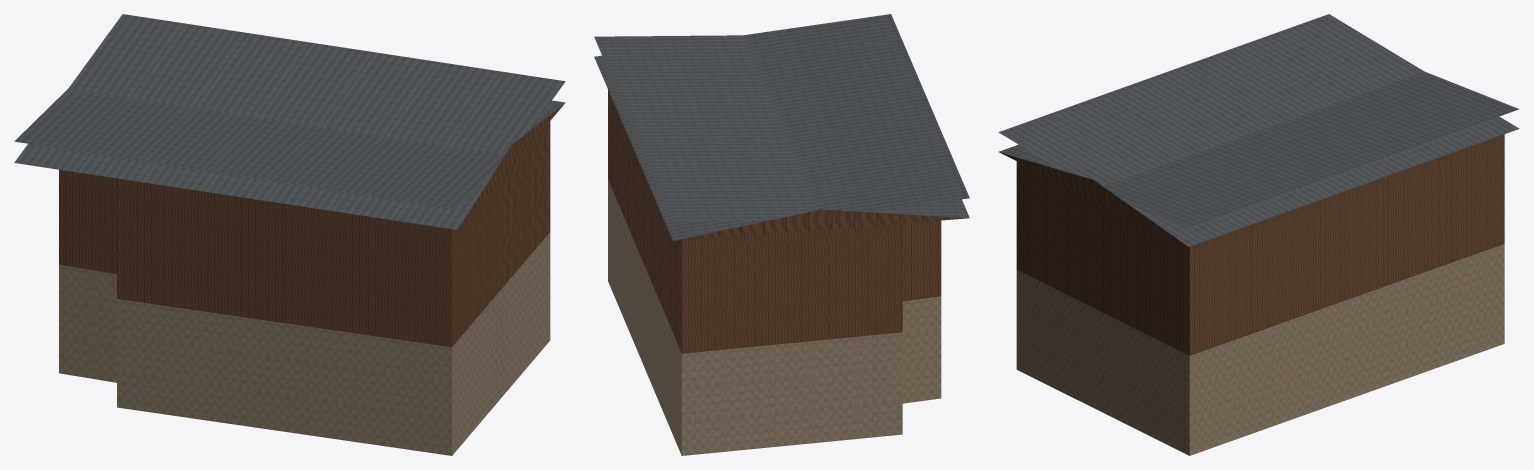
The model's file is bld_c10_11_495.gltf.
3 renders of one model, left to right at view 1: azimuth 30°, elevation 25°; view 2: azimuth 150°, elevation 25°; view 3: azimuth 270°, elevation 25°, orthographic. The views are drawn at different scales.
Parts seen in each view (by area): view 1: bld_c10_11_495; view 2: bld_c10_11_495; view 3: bld_c10_11_495.
Boxes of the visible parts, x1,y1,x2,y2 form: bld_c10_11_495: (14,14,565,455); bld_c10_11_495: (594,14,969,455); bld_c10_11_495: (998,14,1519,455).
Bounding box in the file's own units: 23.37 × 12 × 24.12.
Materials: 4 (4 with a texture image).
